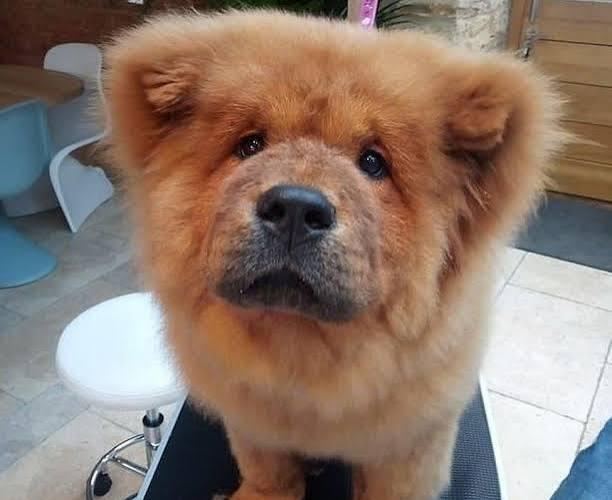adult_dog: (95, 7, 571, 500)
